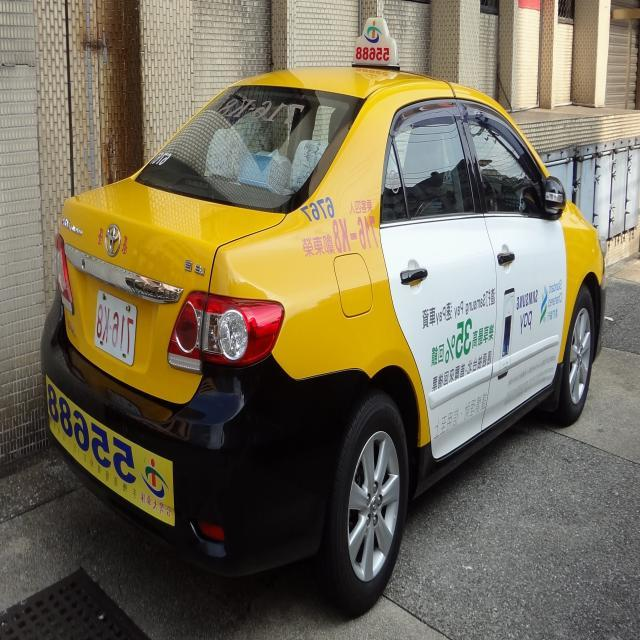taxi: (25, 27, 614, 609)
